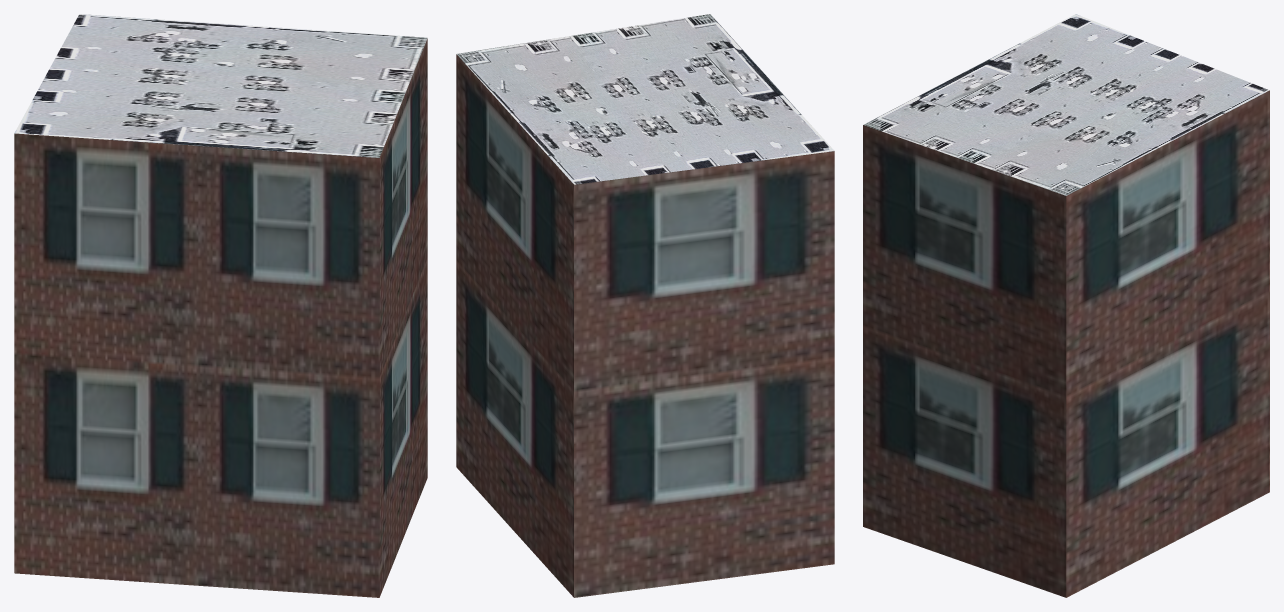
Rendered from ResTex__2329.fbx.
3 views of the same model, side by side, from view 1: azimuth 30°, elevation 25°; view 2: azimuth 150°, elevation 25°; view 3: azimuth 270°, elevation 25° (orthographic). The views are drawn at different scales.
Visible parts, largest first — view 1: CityEngineMaterial_14_m, CityEngineMaterial_4_m; view 2: CityEngineMaterial_14_m, CityEngineMaterial_4_m; view 3: CityEngineMaterial_14_m, CityEngineMaterial_4_m.
Part boxes in pixels (x1,y1,x2,y2): CityEngineMaterial_14_m: [14, 38, 427, 597]; CityEngineMaterial_4_m: [14, 14, 427, 157]; CityEngineMaterial_14_m: [456, 54, 834, 597]; CityEngineMaterial_4_m: [456, 14, 834, 184]; CityEngineMaterial_14_m: [863, 90, 1269, 597]; CityEngineMaterial_4_m: [863, 14, 1269, 195].
Bounding box in the file's own units: 5.83 × 6 × 5.5.
2 materials, 2 textured.
